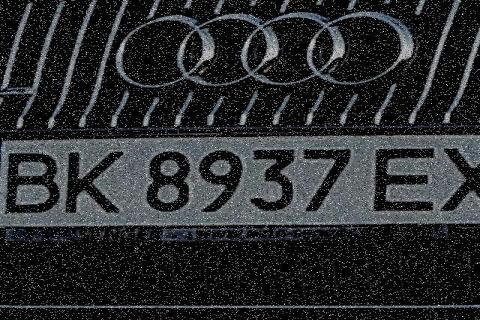LicensePlate: (0, 128, 480, 240)
